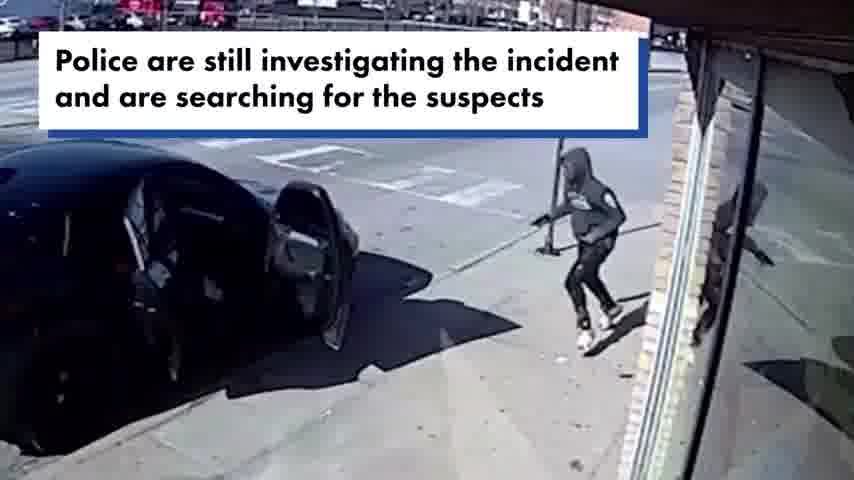person: (542, 150, 643, 356)
pistol: (525, 210, 552, 232)
pistol in hand: (505, 199, 571, 240)
